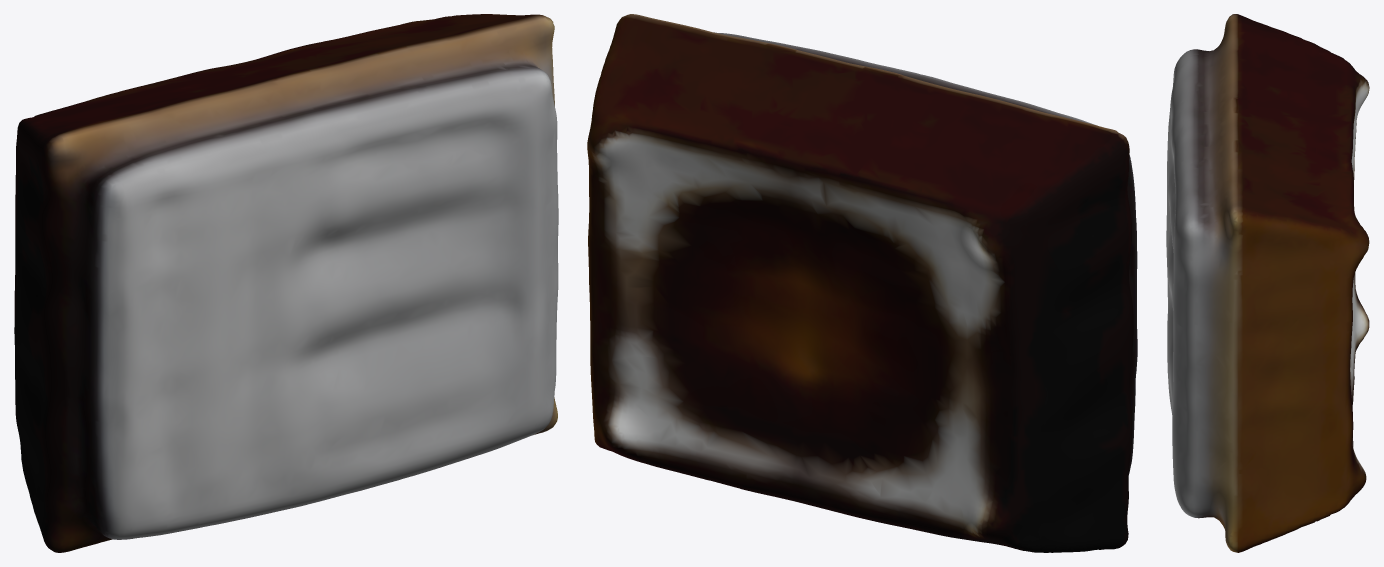
File: soap.glb
The picture shows the model from 3 angles, left to right: view 1: azimuth 30°, elevation 25°; view 2: azimuth 150°, elevation 25°; view 3: azimuth 270°, elevation 25°; orthographic projection. The views are drawn at different scales.
Size of the model in its own units: 0.9991 by 0.7846 by 0.4163.
